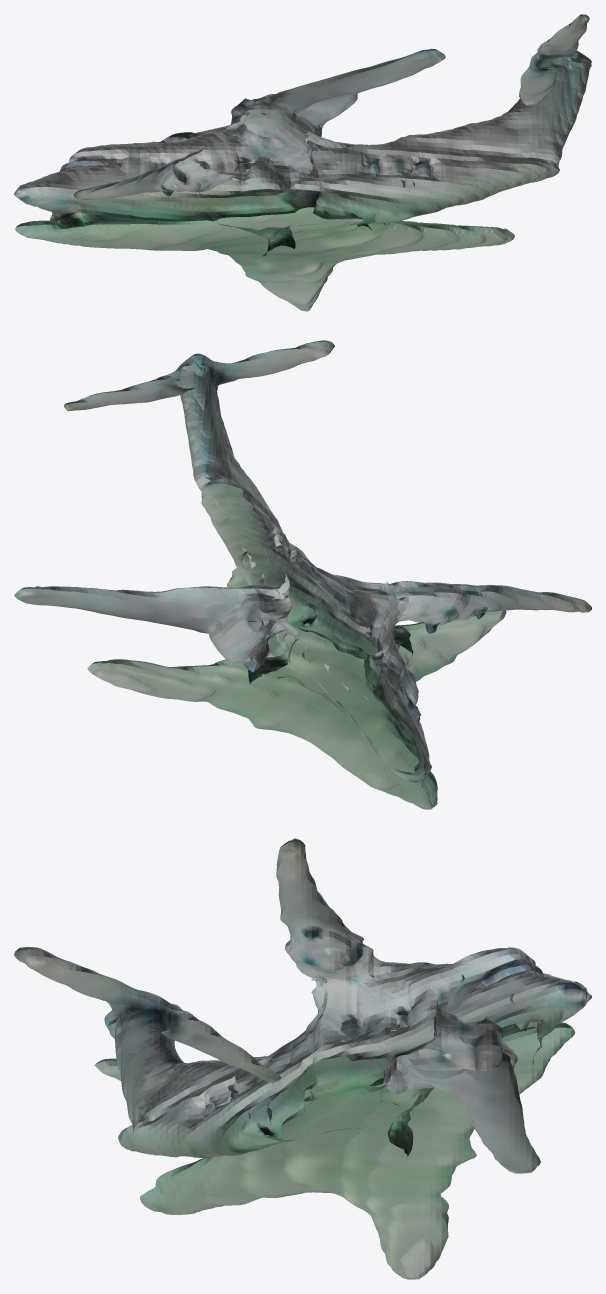
3 renders of one model, top to bottom at view 1: azimuth 30°, elevation 25°; view 2: azimuth 150°, elevation 25°; view 3: azimuth 270°, elevation 25°, orthographic. The views are drawn at different scales.
Parts seen in each view (by area): view 1: geometry_0; view 2: geometry_0; view 3: geometry_0.
Part boxes in pixels (x1,y1,x2,y2): geometry_0: (14, 14, 591, 311); geometry_0: (14, 340, 591, 809); geometry_0: (14, 838, 591, 1279).
Bounding box in the file's own units: 1.6 × 0.6705 × 1.21.
